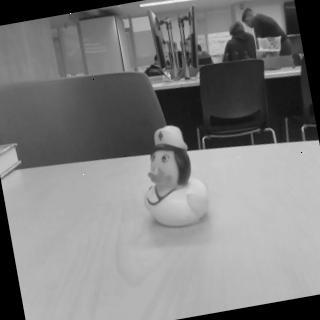duck_specialty: (131, 119, 216, 234)
